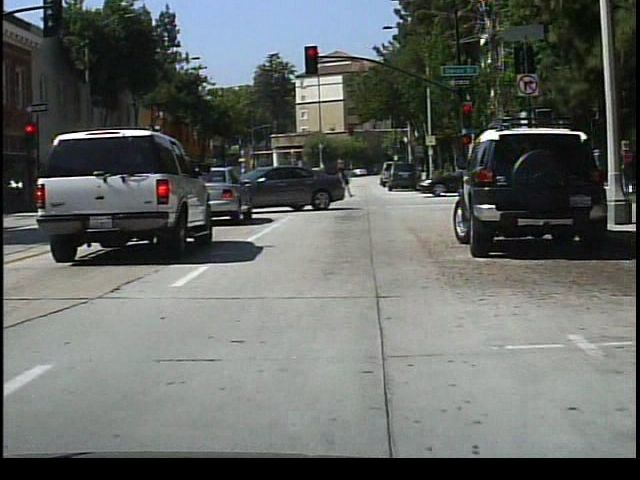person: (329, 159, 355, 200), (456, 150, 473, 188)
